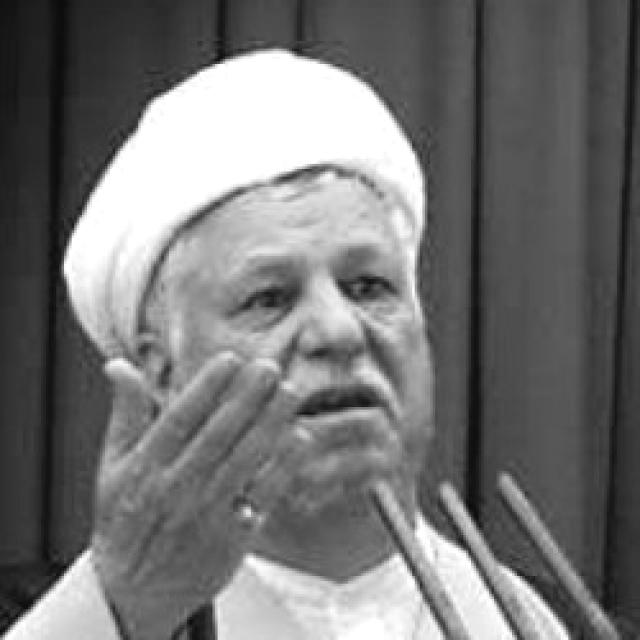real: (182, 188, 434, 494), (223, 257, 412, 322)
